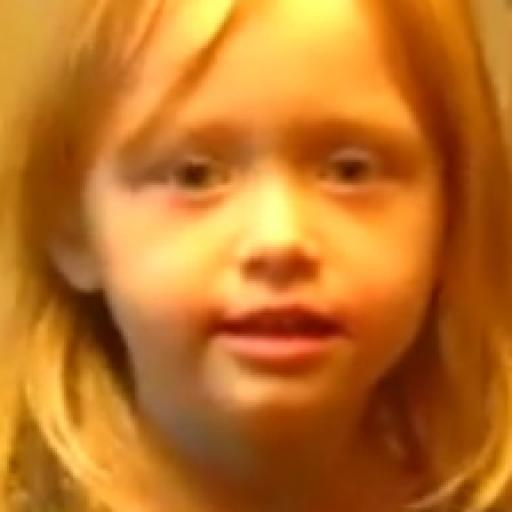Autism: (46, 0, 510, 473)
